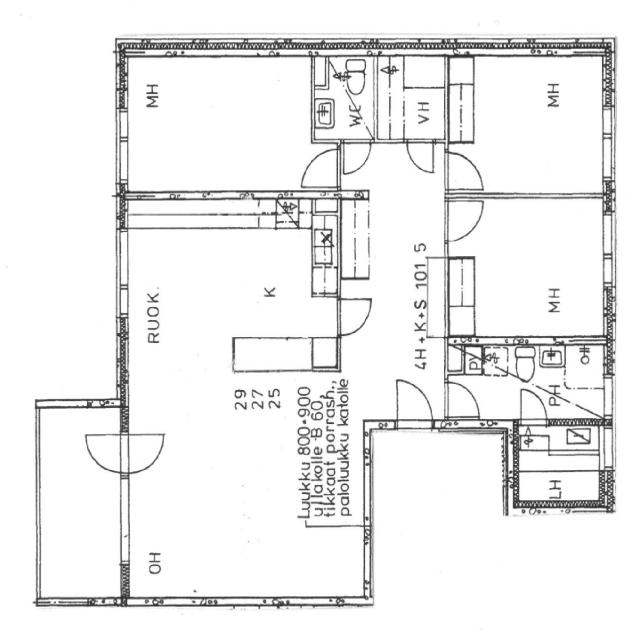door: (392, 374, 436, 429), (121, 430, 166, 476), (444, 195, 485, 244), (300, 143, 340, 190), (83, 430, 124, 473), (444, 377, 483, 422), (445, 148, 485, 191), (337, 295, 374, 337), (516, 386, 550, 425), (340, 137, 373, 177), (405, 137, 436, 175)
window: (115, 474, 134, 567), (598, 204, 620, 280), (599, 106, 619, 184), (112, 224, 133, 293), (293, 596, 340, 610), (362, 536, 374, 586)
zone: (132, 366, 383, 594), (126, 214, 342, 399), (121, 53, 320, 197), (448, 196, 617, 344), (450, 54, 612, 196), (36, 406, 124, 606), (513, 424, 606, 506), (384, 54, 456, 142), (312, 52, 378, 140)
